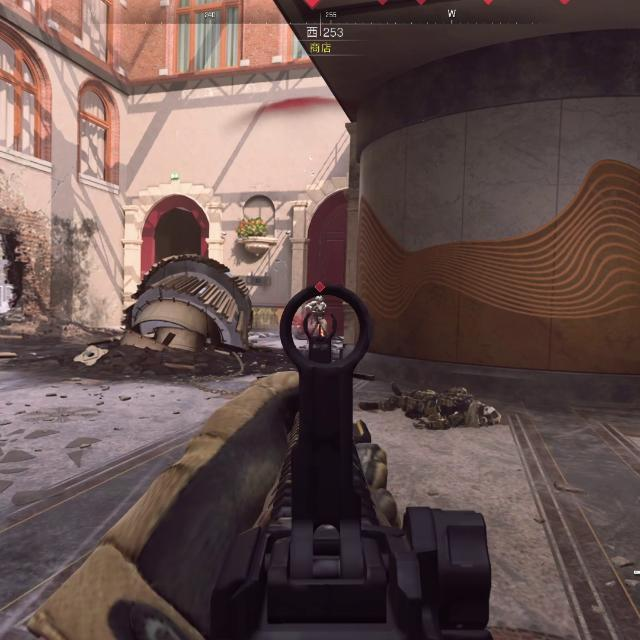MW2_body: (305, 282, 327, 336)
